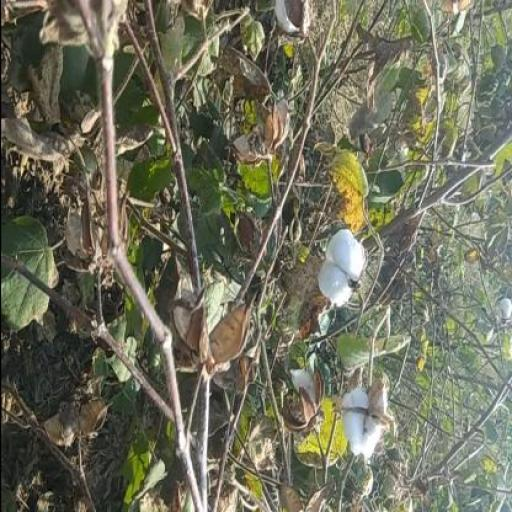cotton_ready: (302, 218, 369, 344), (324, 366, 391, 492)
